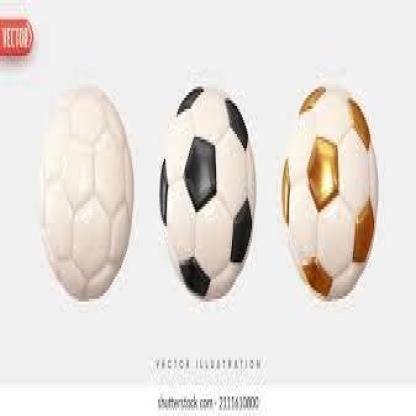ball: (280, 76, 381, 304), (38, 81, 136, 314), (159, 84, 257, 298)
